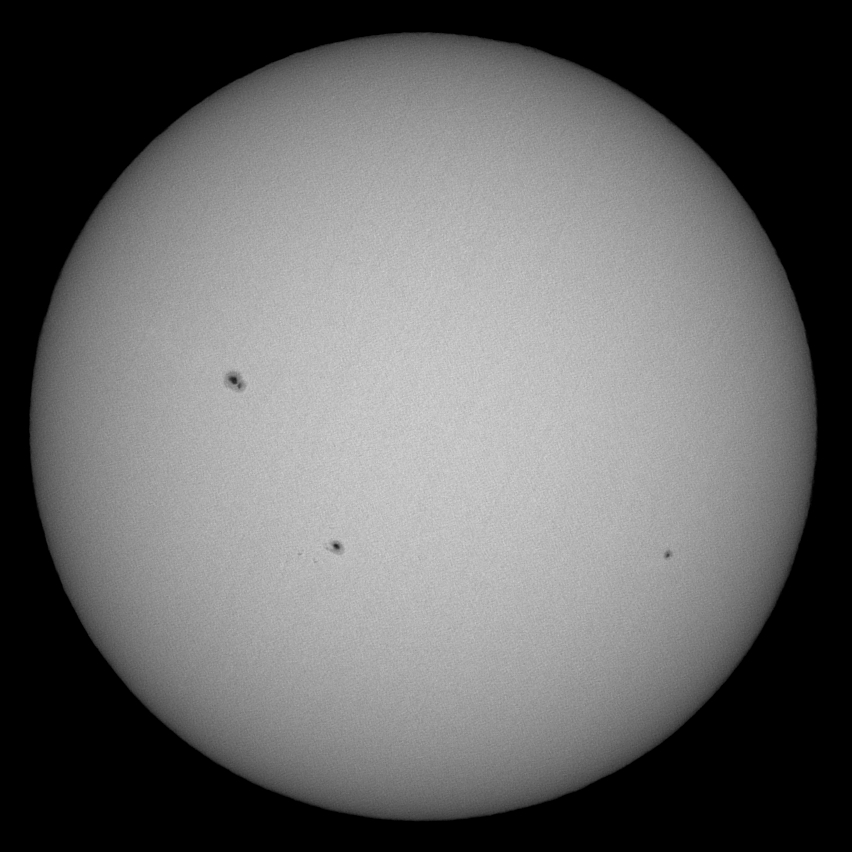sunspot: (221, 368, 249, 396), (323, 535, 348, 558), (660, 547, 677, 561)
